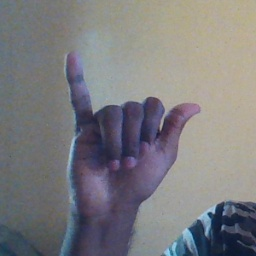J: (61, 51, 201, 212)
